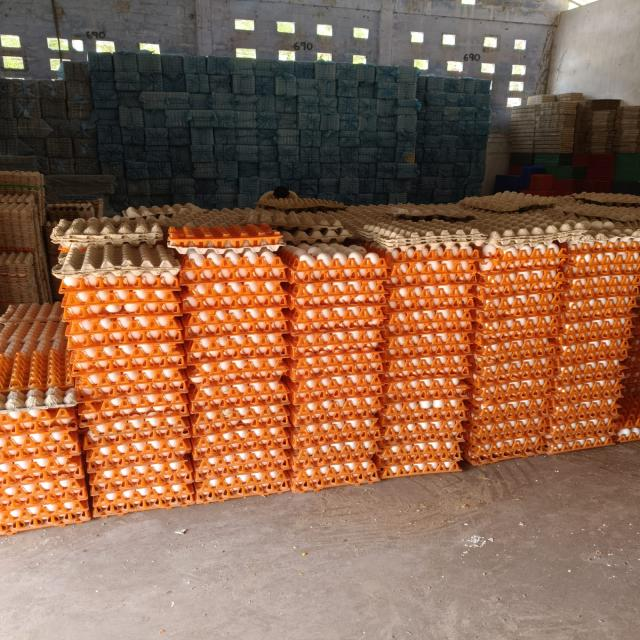egg_tray: (59, 244, 192, 516), (180, 246, 289, 502), (280, 244, 386, 491), (375, 245, 477, 477), (464, 243, 564, 464), (547, 238, 639, 452), (181, 250, 286, 387), (81, 394, 193, 516), (81, 394, 192, 516), (81, 394, 192, 515), (54, 245, 180, 349), (0, 388, 89, 534), (180, 250, 286, 364), (383, 246, 475, 376), (191, 382, 289, 502), (476, 247, 561, 382), (180, 249, 285, 357), (83, 414, 193, 516), (83, 414, 192, 516), (194, 396, 289, 501), (279, 244, 387, 335), (280, 244, 386, 334), (61, 270, 181, 349), (193, 405, 289, 502), (375, 378, 465, 477), (290, 396, 380, 490), (290, 398, 379, 491), (291, 398, 379, 490), (193, 418, 289, 502), (386, 246, 474, 334), (388, 248, 473, 336), (565, 240, 638, 342), (565, 241, 638, 342), (476, 243, 564, 326), (470, 204, 639, 246), (464, 380, 548, 464), (291, 411, 378, 492), (477, 243, 565, 323), (377, 245, 477, 314), (290, 394, 379, 470), (379, 245, 474, 313), (0, 304, 72, 393), (291, 420, 377, 491), (0, 316, 73, 393), (470, 207, 612, 246), (341, 203, 477, 243), (547, 380, 620, 453), (89, 457, 193, 508), (191, 403, 287, 458), (52, 243, 179, 284), (68, 300, 181, 346), (0, 322, 73, 392), (381, 380, 466, 440), (0, 478, 89, 534), (289, 329, 382, 382), (65, 292, 179, 335), (548, 380, 619, 449), (75, 356, 186, 400), (289, 345, 382, 397), (374, 425, 461, 479), (385, 330, 471, 384), (372, 243, 475, 288), (363, 203, 478, 243), (75, 362, 186, 401), (279, 244, 387, 283), (0, 187, 46, 276), (0, 321, 65, 382), (92, 478, 193, 517), (358, 219, 485, 250), (114, 204, 253, 232), (67, 316, 181, 350), (63, 288, 180, 321), (180, 249, 284, 286), (77, 394, 188, 428), (69, 343, 185, 375), (567, 226, 638, 278), (248, 210, 350, 245), (0, 388, 76, 434), (168, 224, 283, 254), (182, 280, 286, 313), (82, 415, 189, 447), (185, 332, 288, 365), (50, 218, 163, 248), (182, 308, 286, 340), (289, 373, 382, 408), (290, 418, 380, 454), (0, 425, 79, 465), (287, 373, 382, 405), (284, 279, 385, 309), (615, 316, 639, 442), (287, 328, 384, 358), (187, 357, 286, 386), (465, 429, 544, 464), (287, 304, 384, 332), (473, 357, 553, 388), (291, 397, 380, 424), (0, 193, 42, 250), (388, 308, 473, 334), (158, 208, 253, 231), (0, 320, 65, 352), (0, 302, 61, 336), (565, 292, 634, 322), (559, 338, 629, 367), (0, 250, 37, 303), (247, 209, 342, 229), (459, 192, 554, 212), (483, 271, 555, 296), (561, 318, 630, 344), (339, 205, 394, 237), (556, 201, 639, 222), (140, 210, 205, 236), (574, 218, 639, 242), (0, 171, 44, 206), (388, 203, 472, 220), (0, 249, 33, 290), (46, 198, 103, 221), (259, 197, 345, 212), (278, 228, 351, 245), (122, 203, 204, 218), (46, 201, 100, 222), (228, 337, 281, 358), (201, 207, 254, 228), (616, 394, 639, 442), (339, 204, 397, 222), (573, 192, 639, 207), (0, 193, 37, 219), (0, 171, 43, 189), (577, 278, 610, 298), (407, 361, 446, 376), (11, 306, 51, 319), (580, 329, 620, 340), (2, 392, 32, 406), (92, 290, 157, 296), (554, 195, 579, 208), (263, 405, 285, 419), (388, 364, 405, 378), (183, 252, 206, 262), (85, 381, 99, 397), (558, 333, 575, 346), (65, 292, 85, 300), (194, 414, 206, 426), (613, 276, 626, 287), (113, 216, 135, 222), (306, 401, 324, 408), (237, 408, 254, 415), (294, 405, 305, 415), (581, 408, 593, 417), (577, 351, 585, 363), (162, 290, 175, 297), (578, 382, 592, 388), (496, 325, 508, 332), (72, 344, 85, 350), (563, 392, 576, 398), (156, 501, 171, 506), (158, 500, 170, 506), (365, 473, 374, 481), (55, 389, 63, 398), (137, 387, 153, 391), (195, 355, 204, 362), (500, 303, 509, 310), (182, 486, 190, 493), (193, 343, 201, 350), (196, 421, 202, 430), (86, 344, 94, 350), (293, 433, 302, 438), (292, 423, 297, 432), (322, 283, 337, 286), (248, 446, 259, 450), (589, 353, 596, 359), (394, 386, 401, 392), (0, 381, 6, 388), (587, 440, 595, 445), (312, 288, 320, 293), (611, 333, 619, 338), (67, 215, 76, 219), (625, 362, 631, 368), (275, 445, 287, 448), (29, 390, 38, 394), (181, 458, 187, 464), (27, 225, 31, 233), (40, 394, 44, 402), (78, 215, 88, 218), (157, 278, 162, 284), (573, 325, 579, 330), (345, 389, 351, 393), (577, 442, 585, 445), (590, 345, 594, 351), (101, 382, 109, 385), (212, 356, 220, 359), (254, 405, 262, 408), (407, 352, 414, 355), (92, 484, 95, 491), (597, 225, 602, 229), (270, 443, 274, 448), (125, 467, 131, 470), (479, 376, 483, 380), (65, 308, 69, 312), (596, 266, 600, 270), (132, 303, 137, 306), (577, 393, 580, 398), (112, 381, 117, 384), (407, 423, 412, 426), (311, 296, 318, 298), (166, 494, 170, 497), (16, 325, 20, 328), (598, 400, 601, 404), (582, 398, 588, 400), (602, 381, 606, 384), (518, 288, 522, 291), (155, 388, 161, 390), (76, 371, 80, 374), (220, 254, 223, 258), (338, 283, 344, 285), (405, 252, 408, 256), (60, 398, 63, 402), (183, 225, 194, 226), (105, 509, 107, 514), (180, 500, 185, 502), (156, 489, 158, 494), (605, 321, 610, 323), (533, 418, 538, 420), (34, 305, 39, 307), (451, 293, 454, 296), (607, 223, 610, 226), (339, 398, 343, 400), (164, 290, 172, 291), (608, 394, 610, 398), (292, 418, 294, 422), (562, 394, 566, 396), (176, 504, 183, 505), (189, 490, 191, 493), (571, 202, 574, 204), (210, 412, 216, 413), (187, 224, 193, 225), (85, 353, 88, 355), (98, 341, 101, 343), (514, 354, 517, 356), (599, 408, 602, 410), (521, 283, 523, 286), (596, 259, 599, 261), (598, 230, 601, 232), (115, 248, 121, 249), (135, 465, 138, 467), (530, 313, 535, 314), (5, 409, 10, 410), (370, 208, 375, 209), (138, 465, 143, 466), (620, 209, 624, 210), (183, 496, 187, 497), (203, 238, 205, 240), (245, 352, 247, 354), (19, 230, 21, 232), (244, 413, 246, 415), (605, 280, 607, 282), (321, 410, 323, 412), (451, 291, 454, 292), (35, 305, 38, 306), (625, 380, 626, 383), (215, 254, 218, 255), (16, 387, 19, 388), (224, 358, 227, 359), (392, 347, 395, 348), (59, 218, 61, 219), (158, 282, 159, 284), (400, 205, 402, 206), (81, 387, 83, 388), (146, 376, 148, 377), (221, 347, 223, 348), (213, 254, 215, 255), (3, 298, 5, 299), (239, 447, 241, 448), (415, 353, 417, 354), (9, 474, 10, 476), (371, 421, 372, 423), (165, 474, 166, 476), (518, 298, 519, 299), (194, 442, 195, 443), (243, 418, 244, 419), (581, 385, 582, 386), (418, 427, 419, 428), (396, 425, 397, 426), (467, 231, 468, 232), (136, 469, 137, 470), (341, 394, 343, 394), (447, 294, 448, 294), (59, 209, 59, 210), (139, 496, 143, 496), (200, 223, 200, 223), (123, 296, 123, 296), (560, 403, 562, 403), (596, 368, 598, 368), (111, 394, 112, 394), (105, 392, 106, 392), (234, 352, 235, 352), (263, 272, 263, 275), (183, 272, 183, 273), (188, 470, 188, 470), (556, 311, 556, 312), (55, 314, 56, 314), (361, 480, 361, 481), (431, 256, 434, 256)
